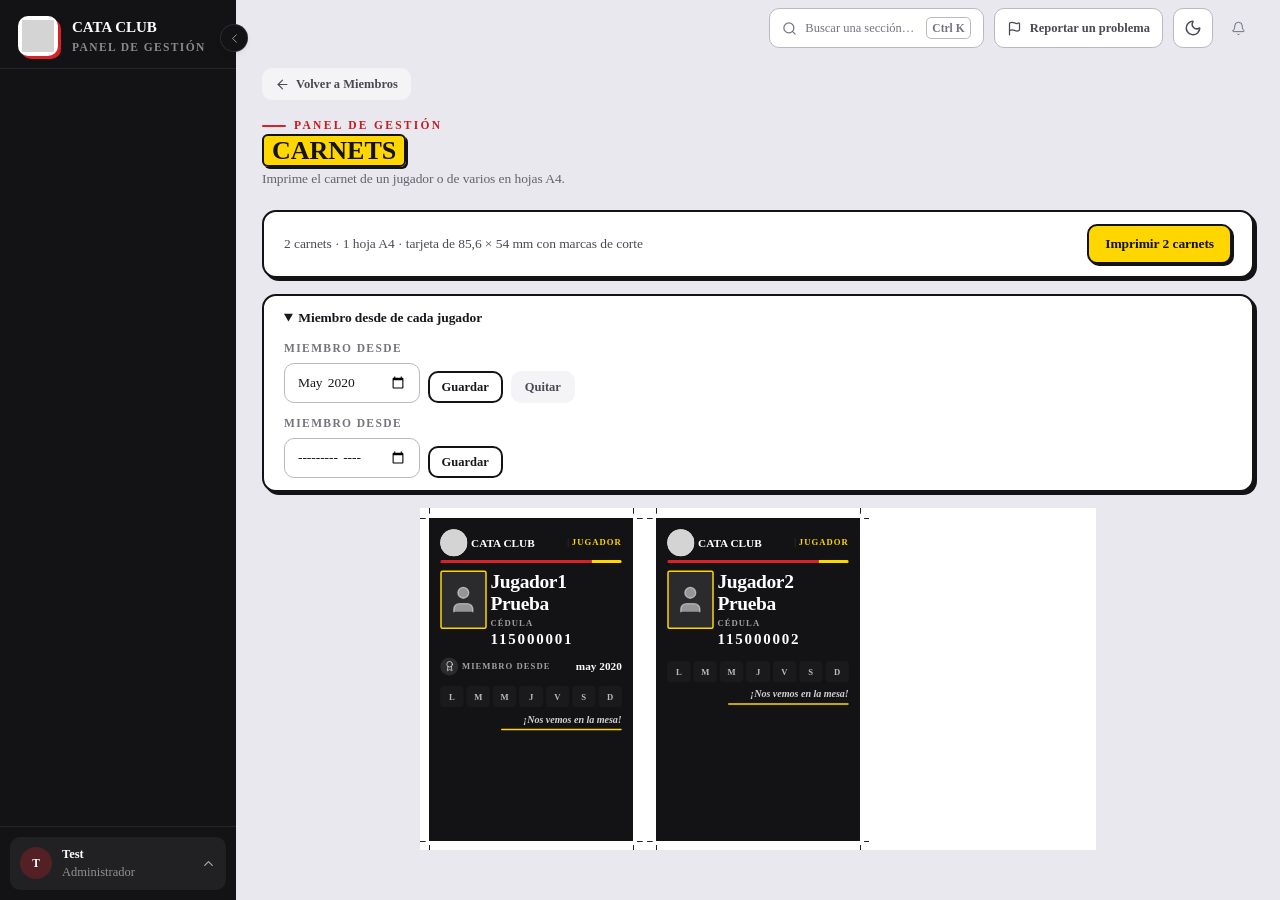
it: CarnetsPage — «Miembro desde» block opens for undated players (#1749, S3) › does not close under the admin's hands when the last missing date is saved
Type "2021-02" into the field named "Miembro desde de Jugador2 Prueba" at (352, 458), box [284,438,420,478]
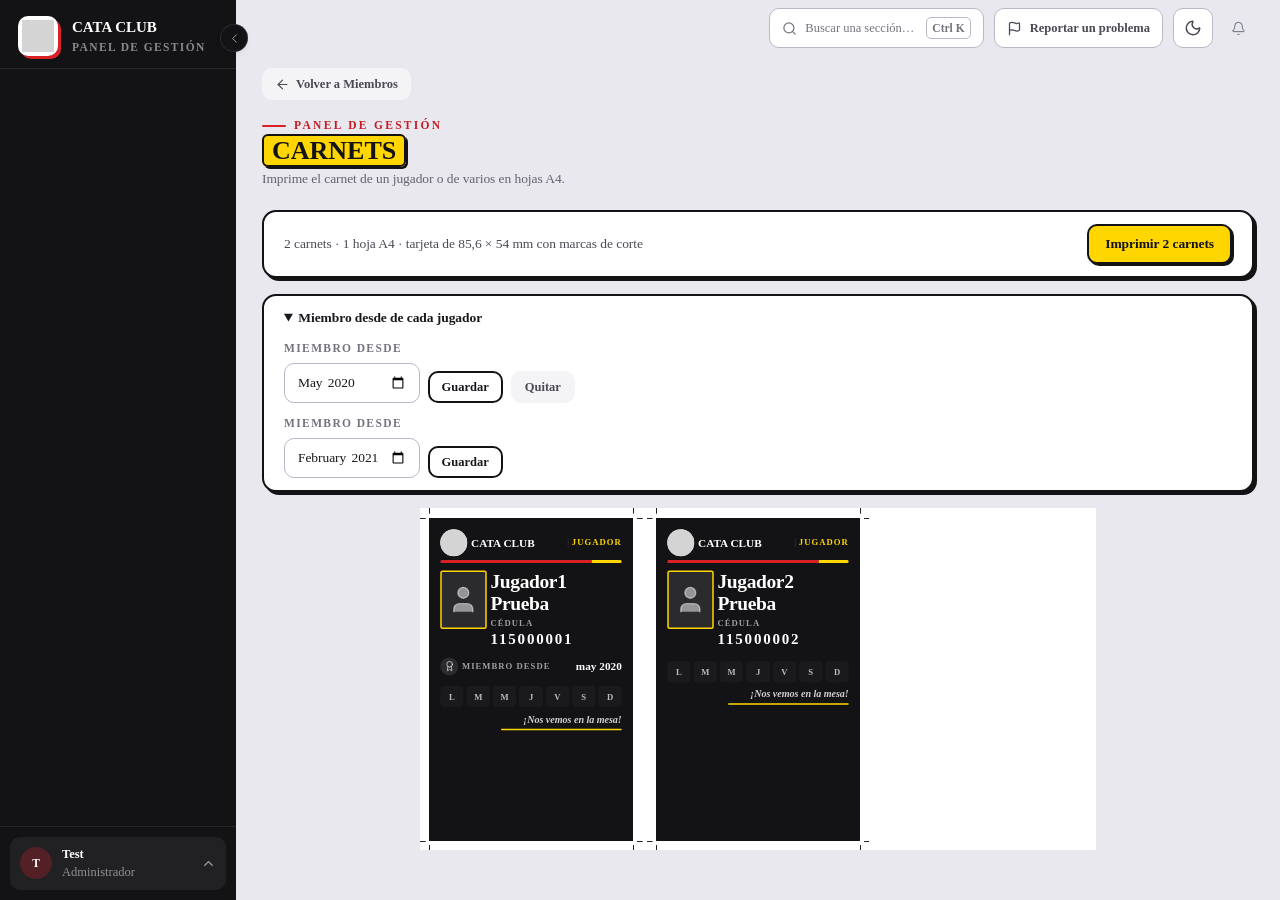
Click the 2nd button "Guardar" at (465, 462), box [428,446,503,478]
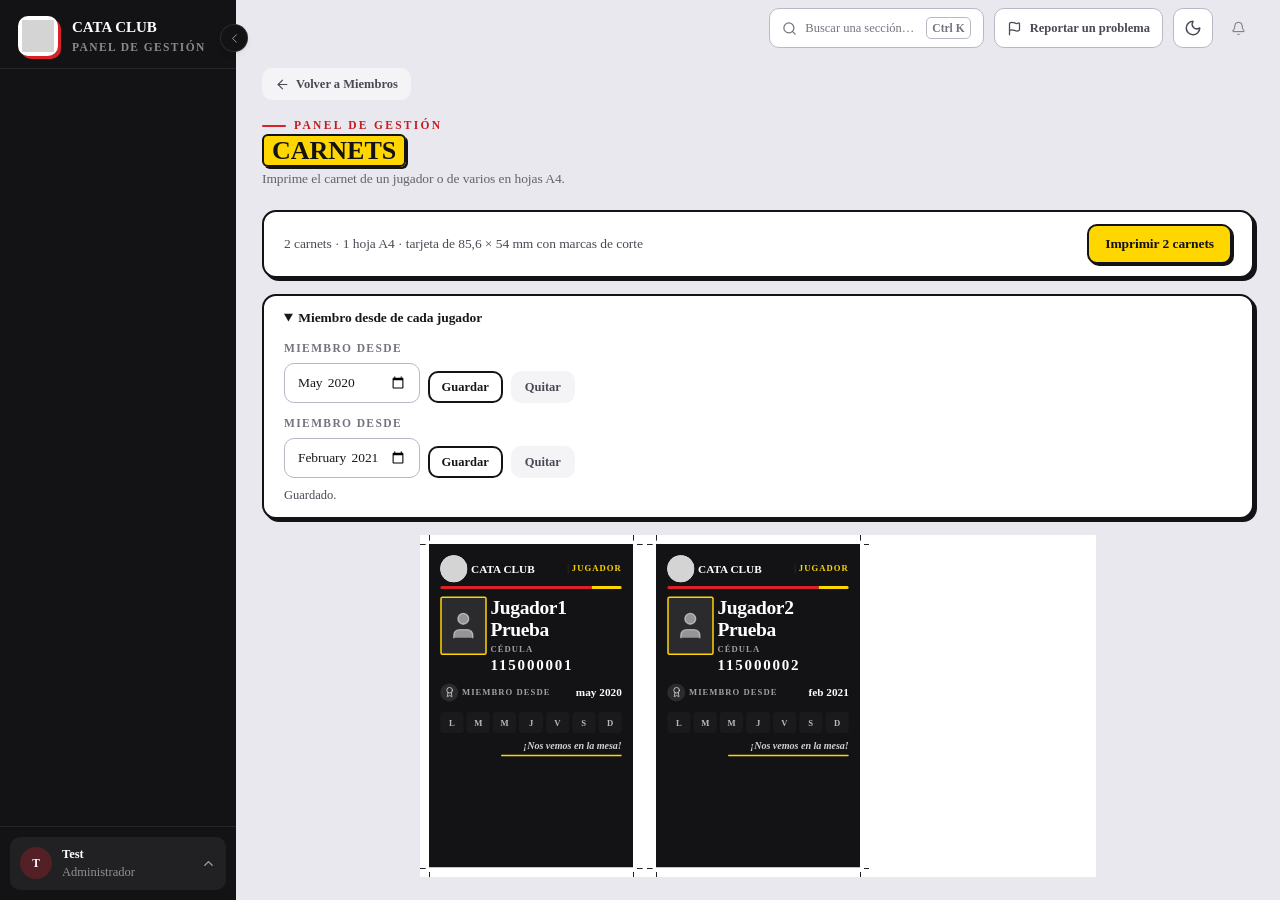
Check: the text "Guardado." is shown, box [284,488,336,502]
